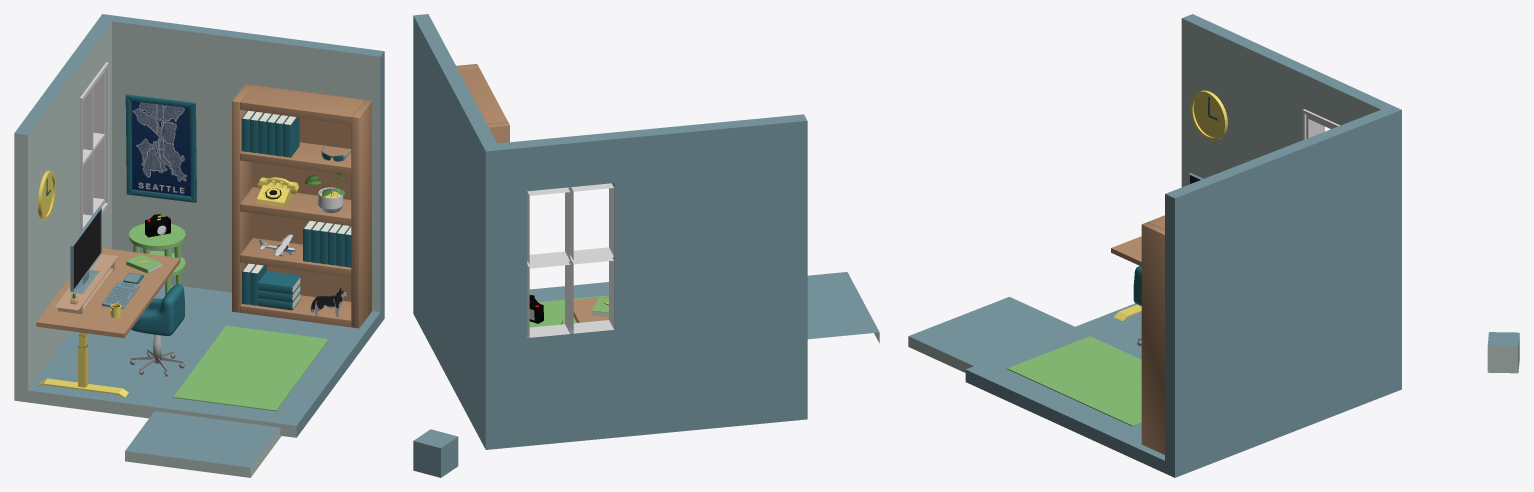
Rendered from Boko9.glb.
The picture shows the model from 3 angles, left to right: view 1: azimuth 30°, elevation 25°; view 2: azimuth 150°, elevation 25°; view 3: azimuth 270°, elevation 25°; orthographic projection. The views are drawn at different scales.
Parts seen in each view (by area): view 1: Body, Bookshelf, Rug, Mini Floor, squared_border_frame_n3d, Desk_n3d, Computer_n3d, Chair Top_n3d, Coffee Table_n3d, Computer Stand_n3d, Plant_n3d, phone5 (+8 smaller); view 2: Body, Mini Floor, Cube, Bookshelf, Desk_n3d; view 3: Body, Rug, Mini Floor, Bookshelf, Clock_n3d, Cube, Desk_n3d.
Part boxes in pixels (x1,y1,x2,y2): Body: [14, 14, 384, 437]; Bookshelf: [232, 84, 371, 328]; Rug: [173, 325, 328, 411]; Mini Floor: [125, 411, 281, 477]; squared_border_frame_n3d: [125, 94, 196, 202]; Desk_n3d: [36, 248, 180, 397]; Computer_n3d: [70, 207, 101, 293]; Chair Top_n3d: [131, 284, 184, 335]; Coffee Table_n3d: [129, 223, 185, 295]; Computer Stand_n3d: [55, 254, 118, 314]; Plant_n3d: [305, 172, 346, 213]; phone5: [256, 177, 298, 207]; Body: [413, 14, 807, 449]; Mini Floor: [807, 272, 879, 343]; Cube: [413, 429, 458, 477]; Bookshelf: [456, 64, 509, 143]; Desk_n3d: [573, 296, 608, 322]; Body: [965, 14, 1401, 477]; Rug: [1007, 336, 1141, 426]; Mini Floor: [908, 297, 1074, 372]; Bookshelf: [1141, 215, 1164, 454]; Clock_n3d: [1190, 90, 1227, 140]; Cube: [1487, 332, 1519, 373]; Desk_n3d: [1111, 236, 1141, 320].
Size of the model in its own units: 27.58 by 19.65 by 38.62.
Materials: 40 (2 with a texture image).
